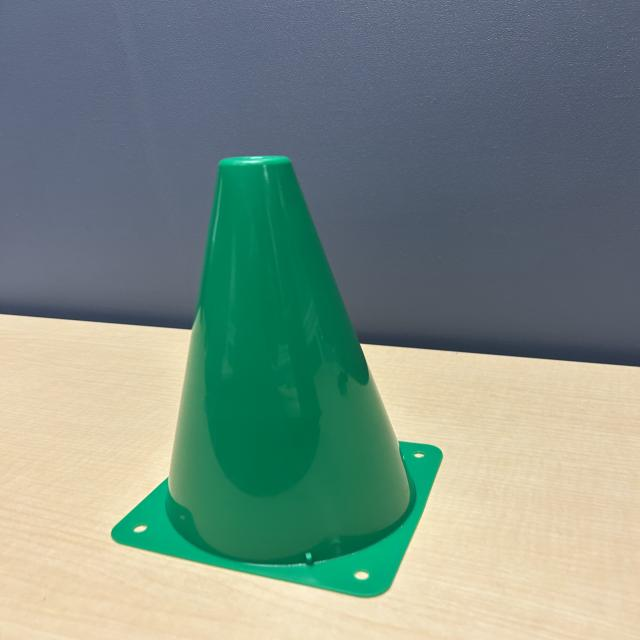green cone: (91, 152, 452, 608)
